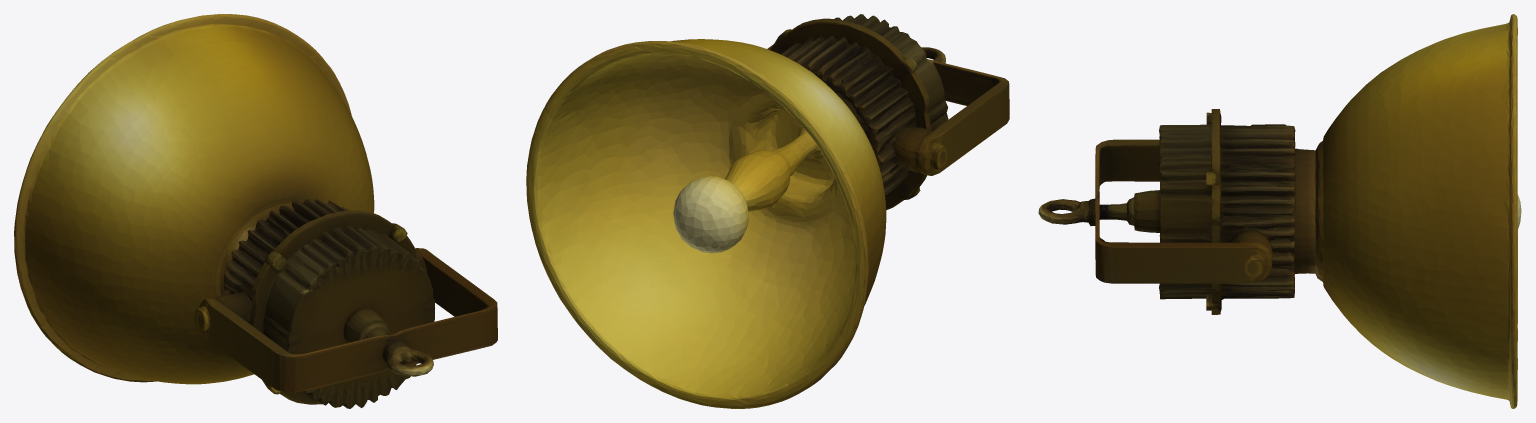
The model's file is escandio.fbx.
3 views of the same model, side by side, from view 1: azimuth 30°, elevation 25°; view 2: azimuth 150°, elevation 25°; view 3: azimuth 270°, elevation 25° (orthographic).
Parts seen in each view (by area): view 1: geometry_0.001; view 2: geometry_0.001; view 3: geometry_0.001.
Part boxes in pixels (bbox=[...]): geometry_0.001: bbox=[14, 14, 497, 408]; geometry_0.001: bbox=[526, 14, 1009, 408]; geometry_0.001: bbox=[1038, 14, 1521, 408].
Bounding box in the file's own units: 0.3136 × 0.3139 × 0.3843.
Materials: 1 (1 with a texture image).
